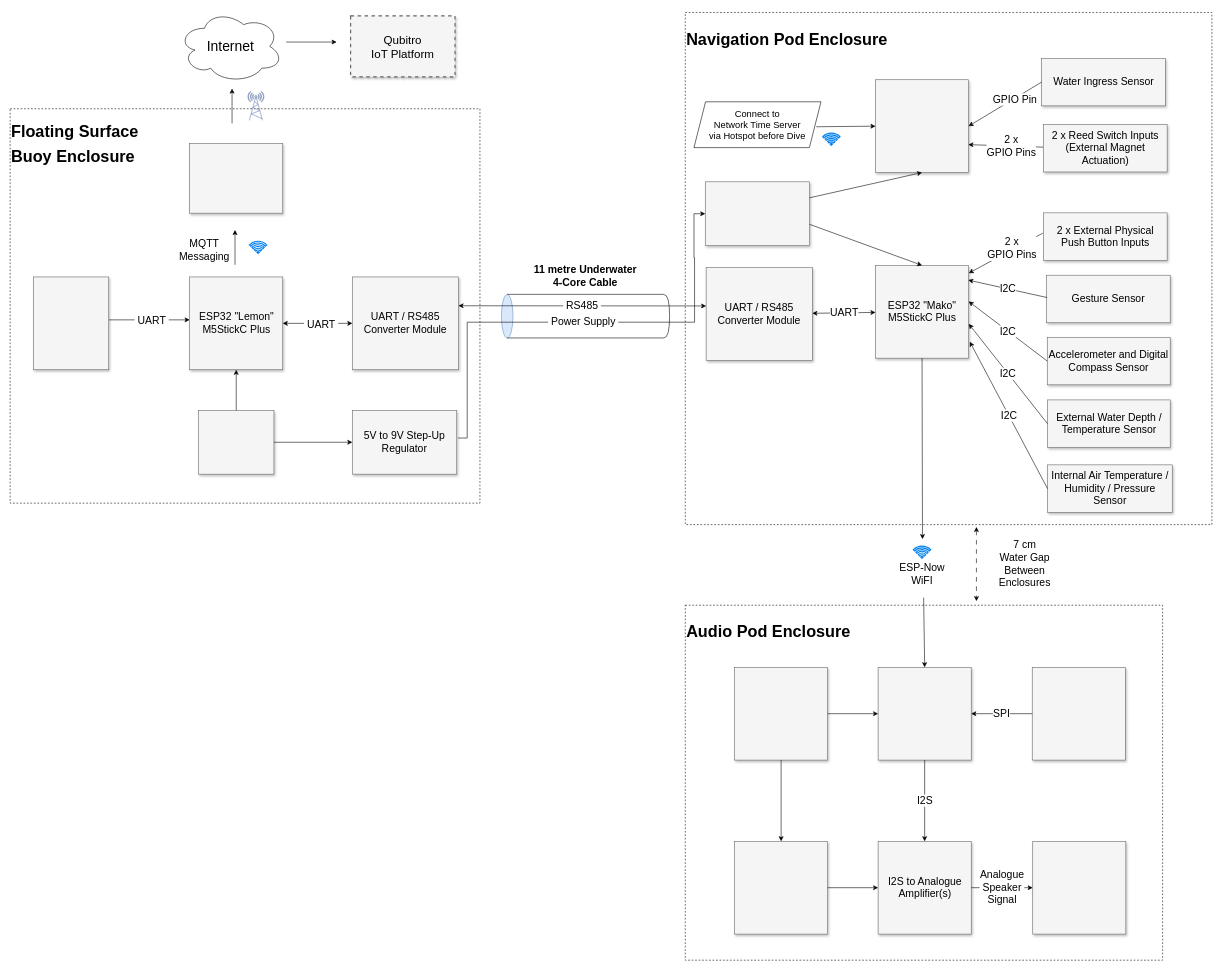
This 1222x970 diagram has some shape labels left out. The shapes that lost their labels are listed below. From the top down, each one's centre as x and y in pixels, then its label:
pixel 922 127: ESP32 "Tiger" M5StickC Plus
pixel 236 179: WiFi / LTE Hotspot
pixel 757 214: 9V to 5V Step-Down Regulator
pixel 71 324: GPS Module
pixel 236 442: 5V USB Power Bank
pixel 781 714: 3.6V Lithium Ion Cell
pixel 925 714: ESP32-C3 "Silky" DFRobot Beetle
pixel 1079 714: Flash File Storage for Audio Directions WAV Files
pixel 781 888: 3.6V to 5V 3A Step-Up Regulators to power Amplifiers
pixel 1079 888: Audio Exciter(s)
